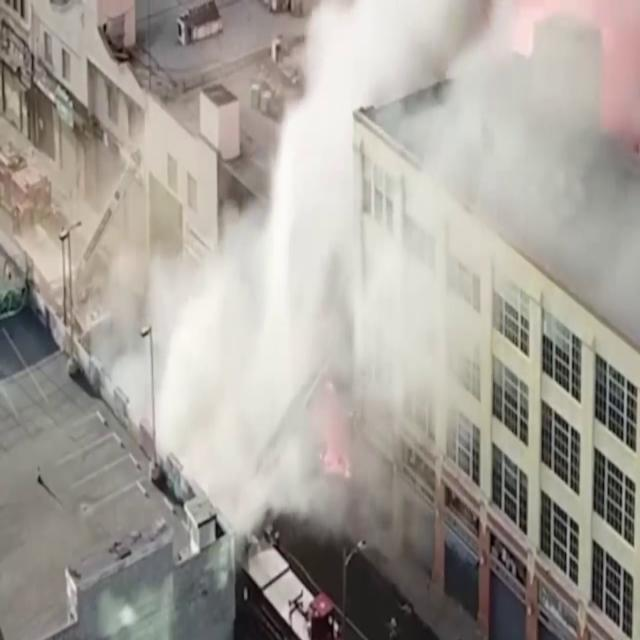Smoke: (157, 0, 499, 570)
